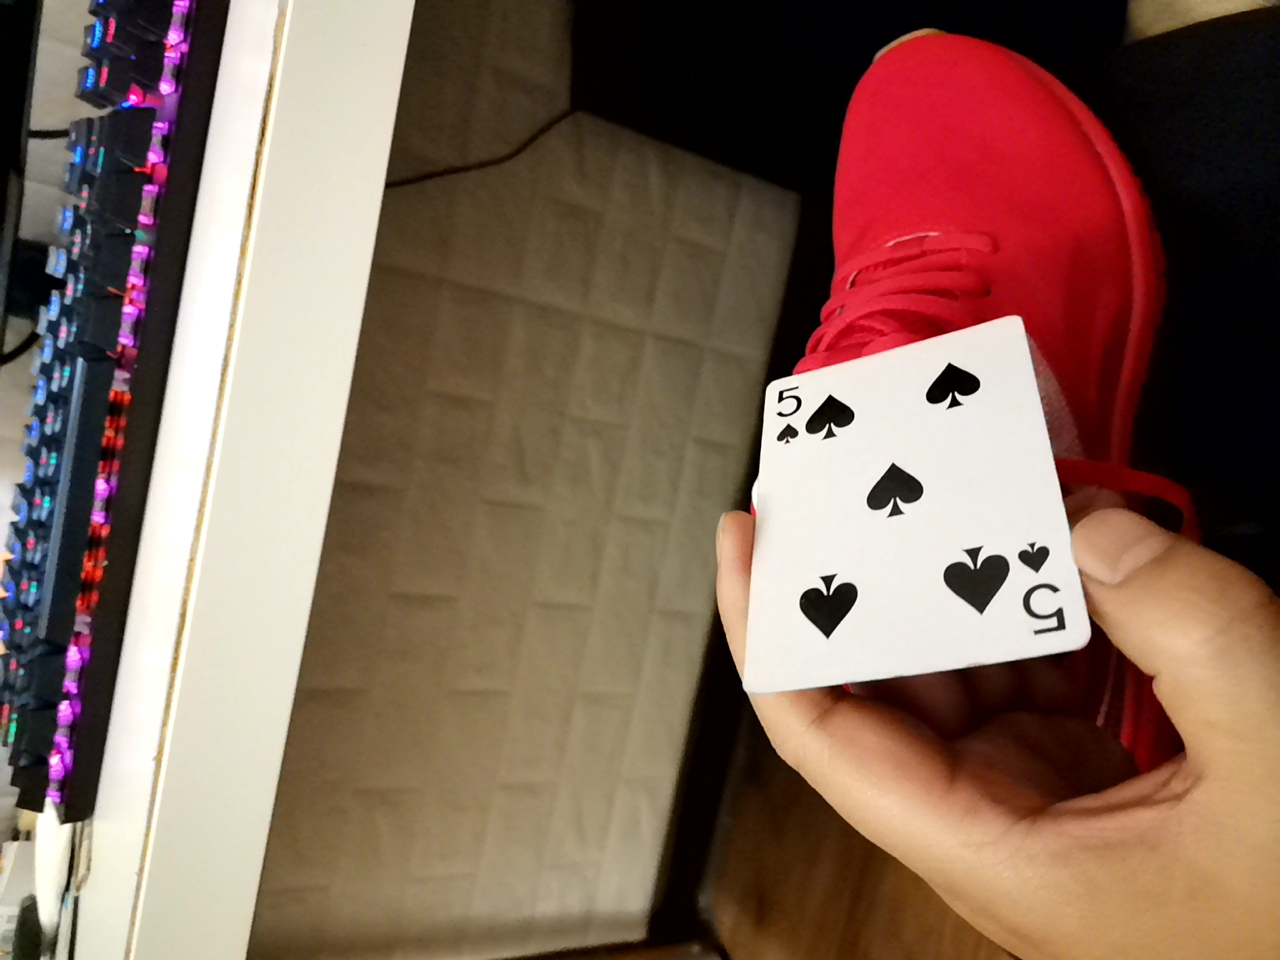ht 5: (718, 322, 1089, 716)
